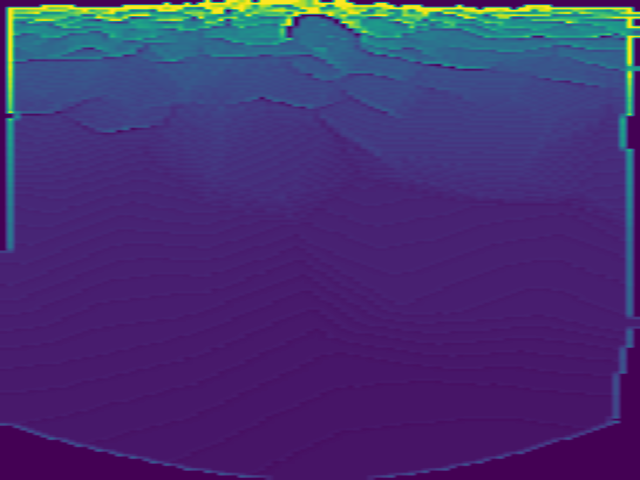car_0198: (282, 14, 361, 45)
